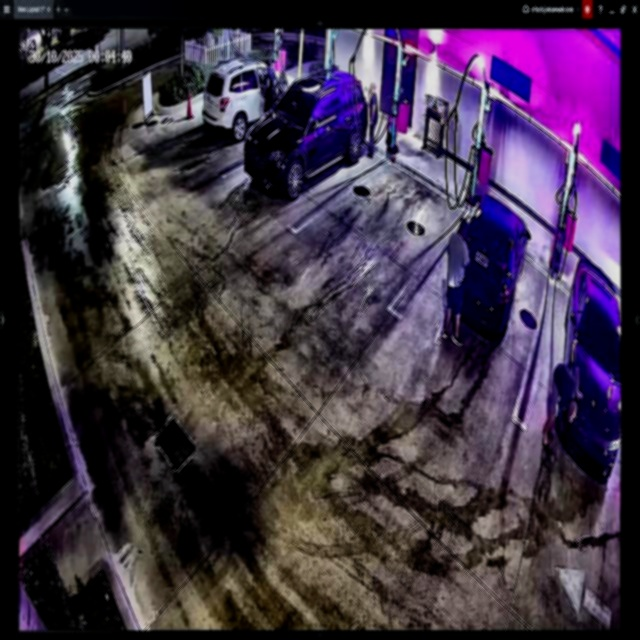Car: (242, 67, 368, 197), (451, 193, 529, 339), (204, 62, 296, 139)
